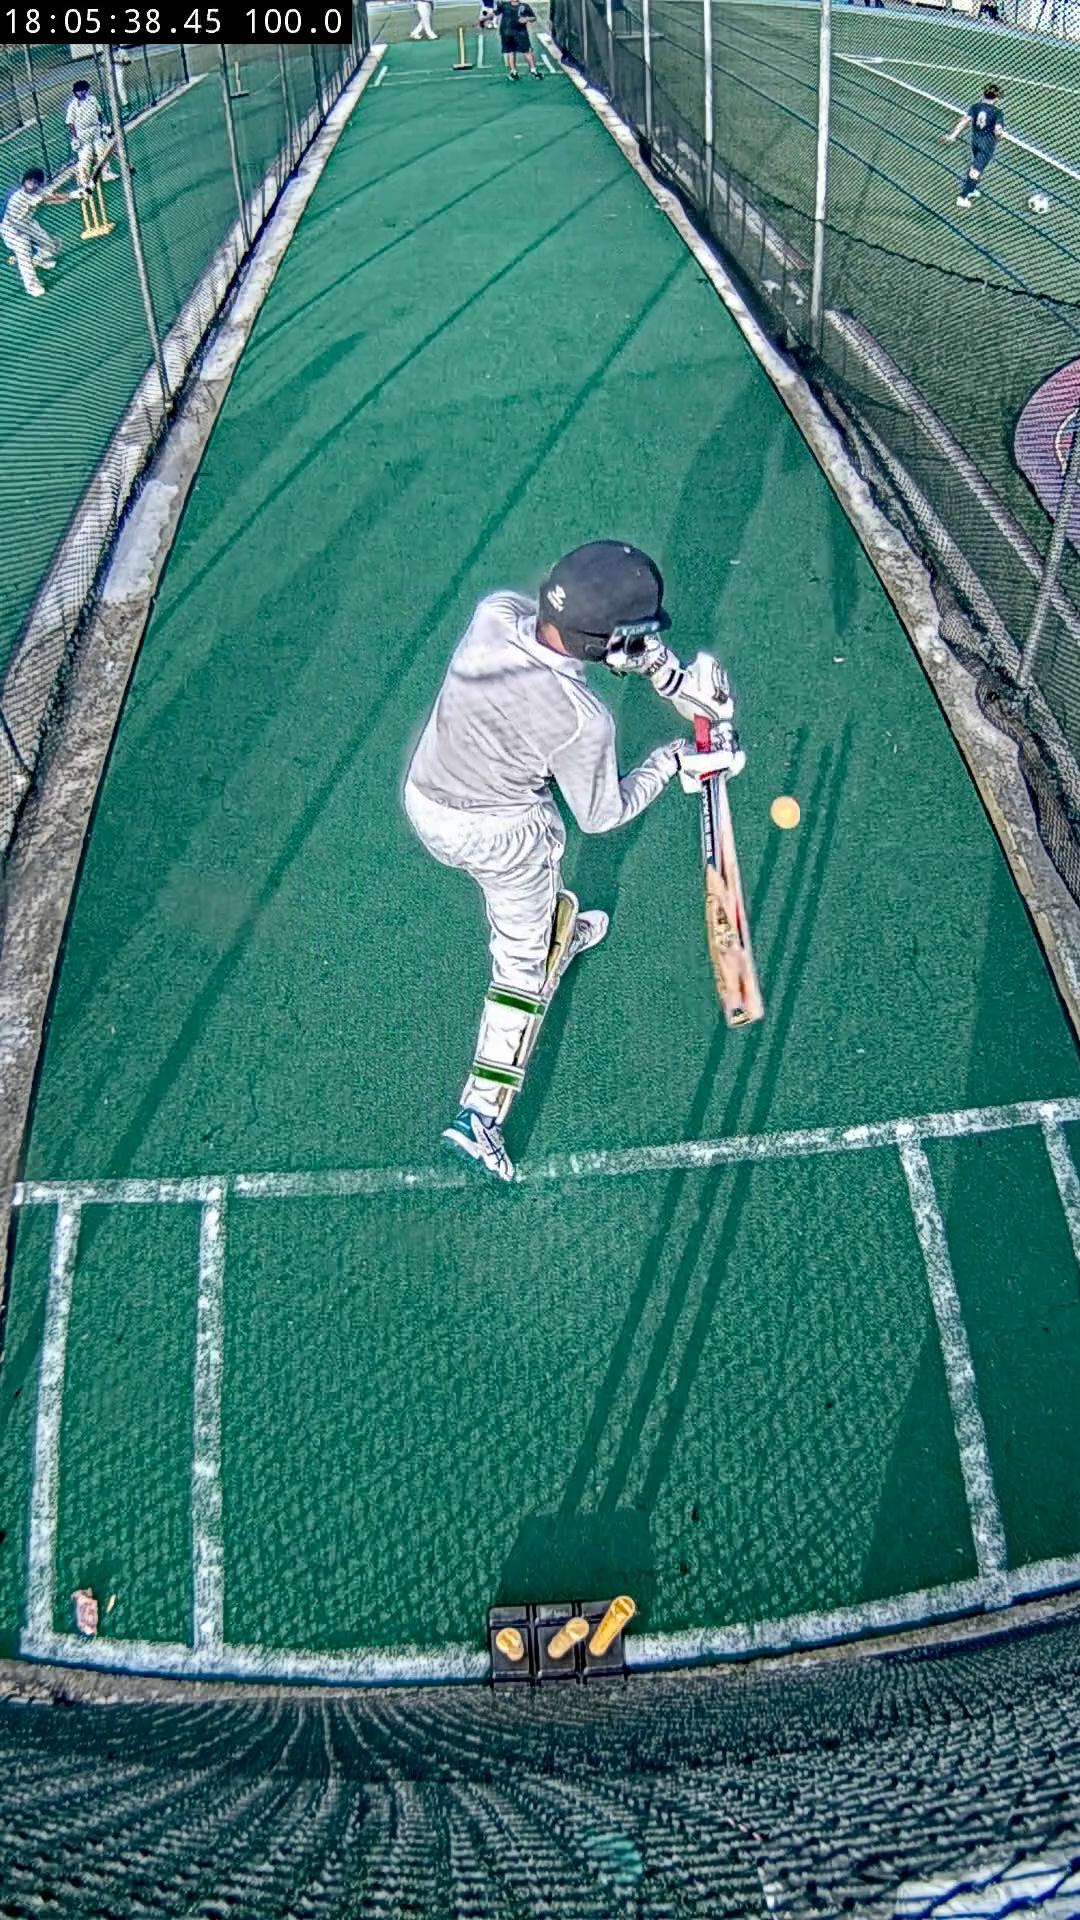ball: (769, 795, 803, 827)
bat: (702, 773, 765, 1027), (694, 716, 716, 750)
gloves: (653, 653, 746, 795)
helmet: (541, 541, 671, 659)
pads: (541, 889, 578, 1001)
stumps: (488, 1597, 637, 1684)
